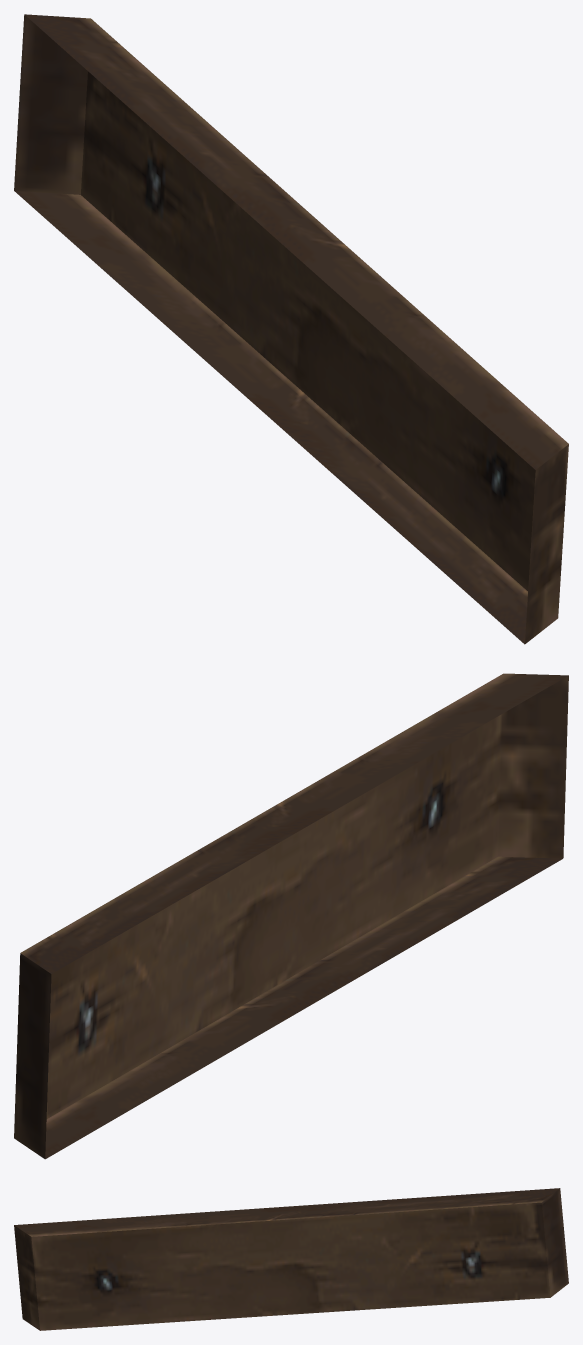
The model's file is 6002_Item_muban_2.FBX.
The picture shows the model from 3 angles, top to bottom: view 1: azimuth 30°, elevation 25°; view 2: azimuth 150°, elevation 25°; view 3: azimuth 270°, elevation 25°; orthographic projection. The views are drawn at different scales.
Visible parts, largest first — view 1: 6002_Item_muban_2; view 2: 6002_Item_muban_2; view 3: 6002_Item_muban_2.
Part boxes in pixels (x1=…): 6002_Item_muban_2: x1=14, y1=14, x2=568, y2=644; 6002_Item_muban_2: x1=14, y1=673, x2=568, y2=1159; 6002_Item_muban_2: x1=14, y1=1188, x2=568, y2=1330.
Bounding box in the file's own units: 15.38 × 62.7 × 236.
